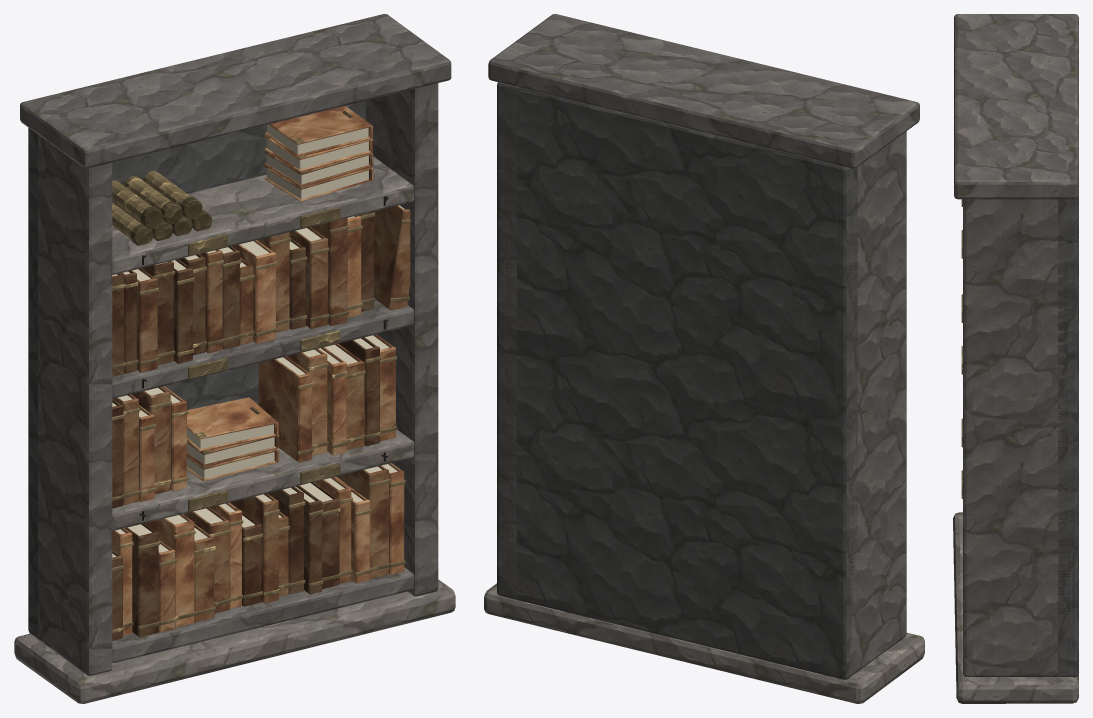
Rendered from bv_ledger_shelf.glb.
The picture shows the model from 3 angles, left to right: view 1: azimuth 30°, elevation 25°; view 2: azimuth 150°, elevation 25°; view 3: azimuth 270°, elevation 25°; orthographic projection. The views are drawn at different scales.
Parts seen in each view (by area): view 1: model; view 2: model; view 3: model.
Boxes of the visible parts, <box> form: model: <box>14,14,455,703</box>; model: <box>484,14,924,703</box>; model: <box>953,14,1078,703</box>.
Bounding box in the file's own units: 1.36 × 1.89 × 0.4125.
13 materials, 11 textured.
